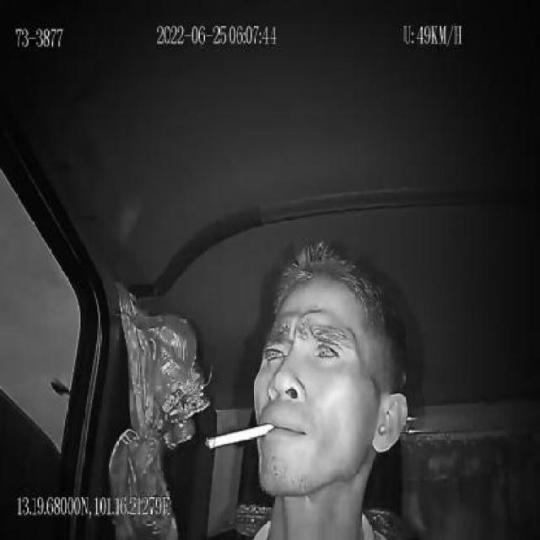smoking: (206, 419, 276, 453)
